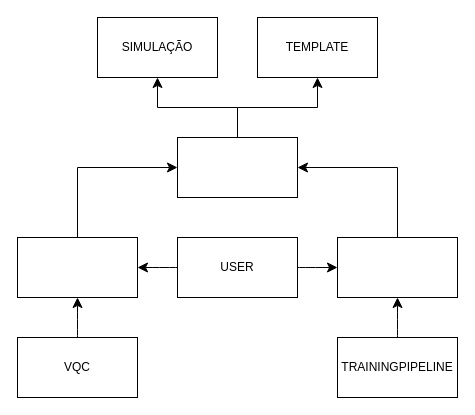
Image size: 475x415. Some labels were removed from this diagram. Each missing label, with the centre of its shape:
"EXPERIMENT" belongs at (x=237, y=167).
"TRAININGCONFIG" belongs at (x=397, y=267).
"VQCCONFIG" belongs at (x=77, y=267).
